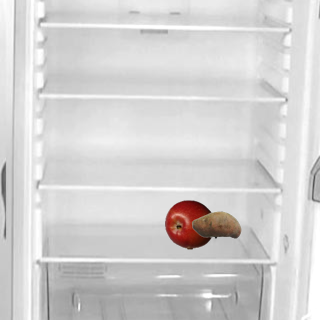Apple Braeburn: (164, 199, 214, 249)
Potato Sweet: (191, 199, 241, 249)
